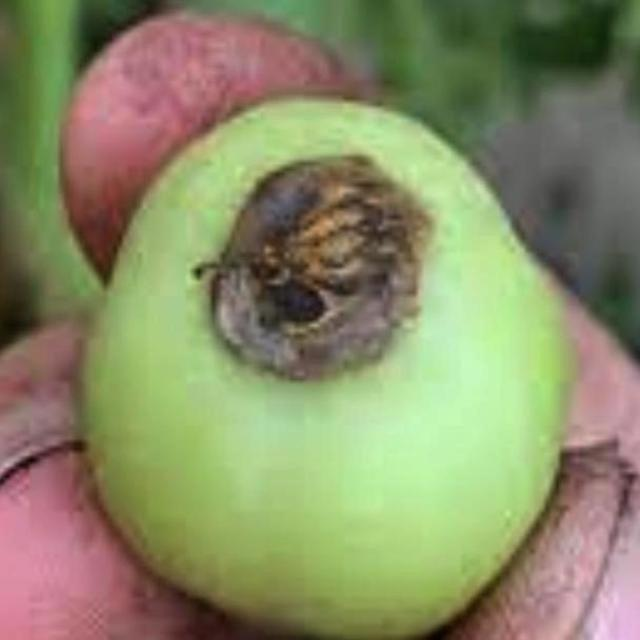Blossom End Rot Fruit: (132, 89, 298, 253)
